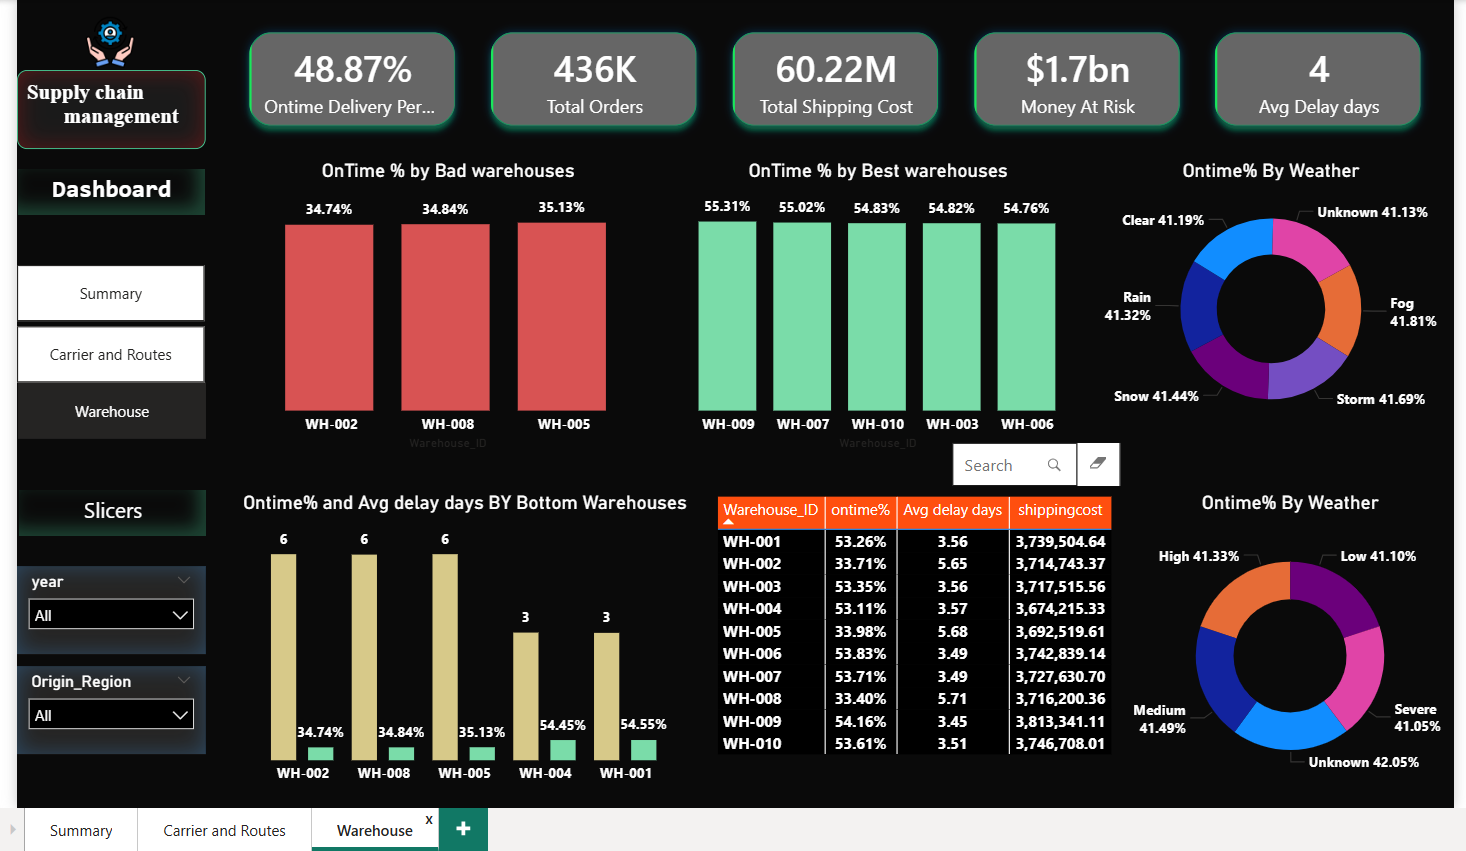

What the dashboard file says about the page in this screenshot:
{"tool":"powerbi","page":{"name":"Warehouse ","canvas":[1280,720],"ordinal":2},"visuals":[{"type":"columnChart","title":"OnTime % by Bad warehouses","fields":{"Y":["supplychain fact_table.ontime_delivery_percent"],"Category":["dim_warehouses.Warehouse_ID"]},"box":[192.9,141.4,382.9,264.3],"z":0},{"type":"donutChart","title":"Ontime%  By Weather","fields":{"Y":["supplychain fact_table.ontime_delivery_percent"],"Category":["supplychain fact_table.Weather_Condition"]},"box":[954.3,141.4,325.7,248.6],"z":1000},{"type":"clusteredColumnChart","title":"Ontime% and Avg delay days BY Bottom Warehouses","fields":{"Y":["supplychain fact_table.Avg_dely_with_zero","supplychain fact_table.ontime_delivery_percent"],"Category":["dim_warehouses.Warehouse_ID"]},"box":[193,437.2,412.8,269.8],"z":2000},{"type":"tableEx","title":"OnTime% By Bottom Products","fields":{"Values":["dim_warehouses.Warehouse_ID","supplychain fact_table.ontime_delivery_percent","supplychain fact_table.Avg_dely_with_zero","supplychain fact_table.Total_shipping_cost"]},"box":[617.4,437.2,369.8,269.8],"z":3000},{"type":"cardVisual","fields":{"Data":["supplychain fact_table.ontime_delivery_percent","supplychain fact_table.Total_orders","supplychain fact_table.Total_shipping_cost","supplychain fact_table.Money_At_Risk","supplychain fact_table.Avg_dely_with_zero"]},"box":[178.6,0,1101.4,141.4],"z":4000},{"type":"shape","box":[0,0,168,720],"z":5000},{"type":"textbox","box":[0,61.9,167.9,70.2],"z":6000},{"type":"slicer","fields":{"Values":["dim_calender.year"]},"box":[0,504.8,167.9,78.6],"z":7000},{"type":"pageNavigator","box":[1.2,340.5,167.9,50],"z":8000},{"type":"pageNavigator","box":[0,235.7,167.9,50],"z":9000},{"type":"pageNavigator","box":[0,290.5,167.9,50],"z":10000},{"type":"image","box":[11.9,13.1,141.7,48.8],"z":11000},{"type":"textbox","box":[1.2,150,166.7,40.5],"z":12000},{"type":"slicer","fields":{"Values":["dim_origins.Origin_Region"]},"box":[0,592.9,167.9,78.6],"z":13000},{"type":"textbox","box":[2.4,436.9,166.7,40.5],"z":14000},{"type":"columnChart","title":"OnTime % by Best  warehouses","fields":{"Y":["supplychain fact_table.ontime_delivery_percent"],"Category":["dim_warehouses.Warehouse_ID"]},"box":[575.7,141.4,382.9,264.3],"z":15000},{"type":"textFilter25A4896A83E0487089E2B90C9AE57C8A","fields":{"field":["dim_warehouses.Warehouse_ID"]},"box":[828.2,389.6,159.2,50.1],"z":16000},{"type":"donutChart","title":"Ontime%  By Weather","fields":{"Y":["supplychain fact_table.ontime_delivery_percent"],"Category":["supplychain fact_table.Traffic_Condition"]},"box":[987.2,437.2,293,274.4],"z":16001}]}

Visuals, with their boxes on the page's 1280x720 design canvas (x1, y1, x2, y2). These are canvas units, not pixel positions in the 1466x851 screenshot, which may show the page scaled, cropped or inside an application window:
"OnTime % by Bad warehouses" columnChart: 193/141/576/406
"Ontime%  By Weather" donutChart: 954/141/1280/390
"Ontime% and Avg delay days BY Bottom Warehouses" clusteredColumnChart: 193/437/606/707
"OnTime% By Bottom Products" tableEx: 617/437/987/707
cardVisual - supplychain fact_table.ontime_delivery_percent x supplychain fact_table.Total_orders: 179/0/1280/141
shape: 0/0/168/720
textbox: 0/62/168/132
slicer - dim_calender.year: 0/505/168/583
pageNavigator: 1/340/169/390
pageNavigator: 0/236/168/286
pageNavigator: 0/290/168/340
image: 12/13/154/62
textbox: 1/150/168/190
slicer - dim_origins.Origin_Region: 0/593/168/672
textbox: 2/437/169/477
"OnTime % by Best  warehouses" columnChart: 576/141/959/406
textFilter25A4896A83E0487089E2B90C9AE57C8A - dim_warehouses.Warehouse_ID: 828/390/987/440
"Ontime%  By Weather" donutChart: 987/437/1280/712
